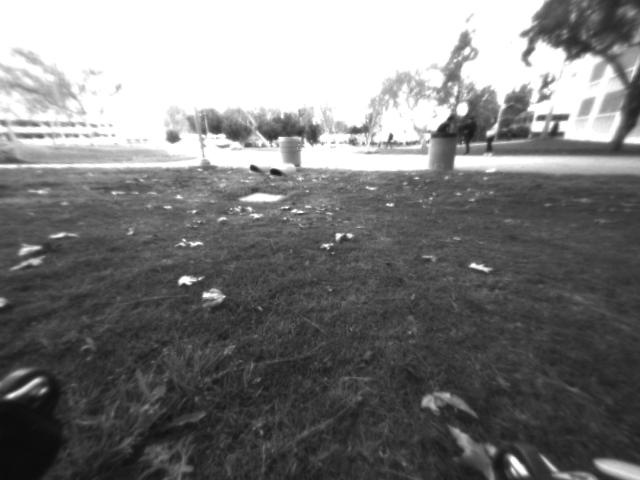trashcan: (426, 136, 455, 176), (274, 137, 304, 172)
